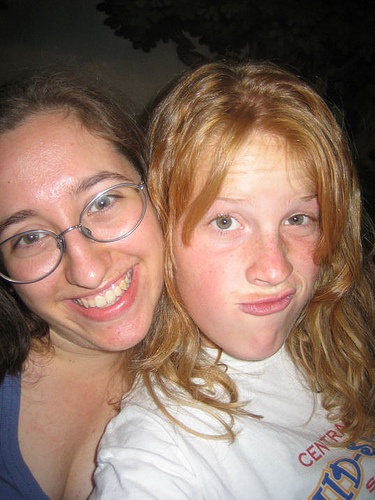without_mask: (169, 128, 337, 361), (3, 123, 169, 356)
